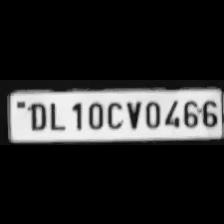0: (141, 96, 161, 128), (86, 98, 104, 130)
1: (65, 98, 84, 130)
4: (162, 96, 180, 128)
6: (199, 96, 219, 128), (180, 96, 198, 128)
C: (104, 97, 122, 129)
D: (25, 99, 48, 130)
L: (46, 98, 66, 130)
V: (123, 97, 141, 129)
